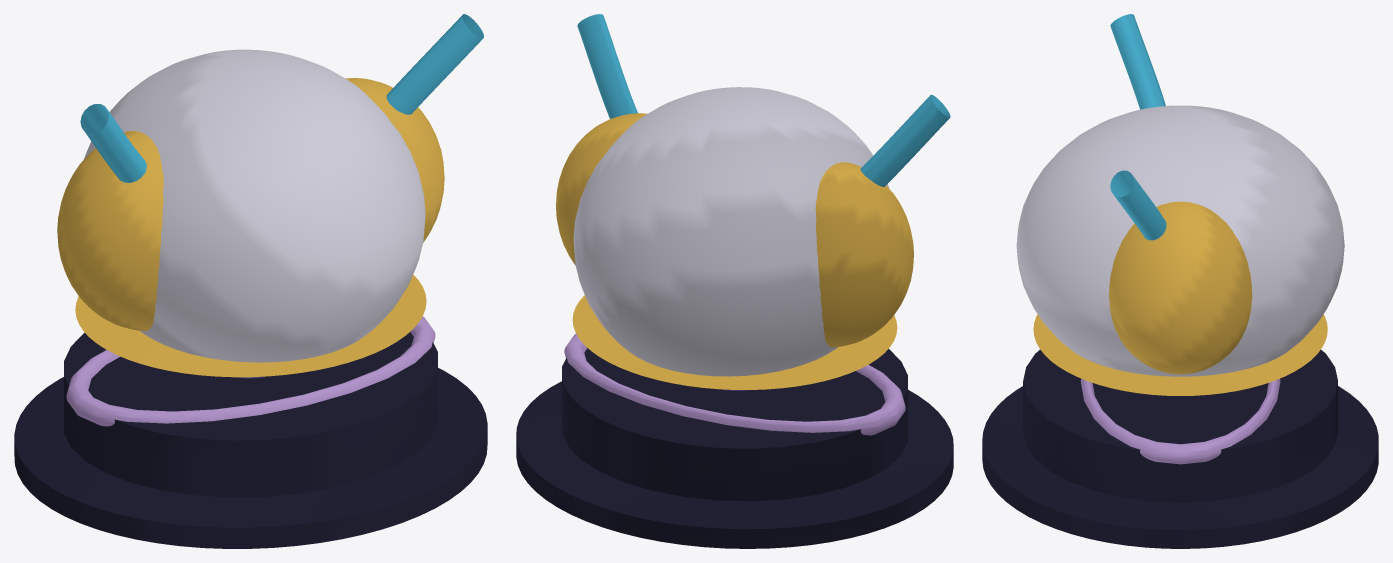
File: 0192_人体图鉴_脑.glb
The picture shows the model from 3 angles, left to right: view 1: azimuth 30°, elevation 25°; view 2: azimuth 150°, elevation 25°; view 3: azimuth 270°, elevation 25°; orthographic projection. The views are drawn at different scales.
Visible parts, largest first — view 1: card_0192; view 2: card_0192; view 3: card_0192.
Boxes of the visible parts, x1,y1,x2,y2 form: card_0192: (14,14,487,548); card_0192: (516,14,953,548); card_0192: (982,14,1378,548).
Bounding box in the file's own units: 1.05 × 1 × 0.9803.
